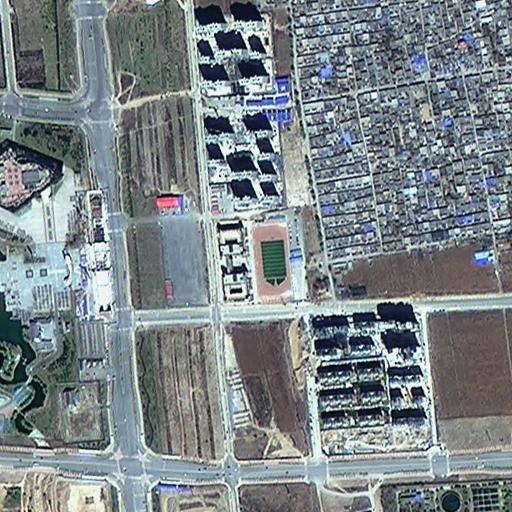school: (212, 210, 296, 304)
